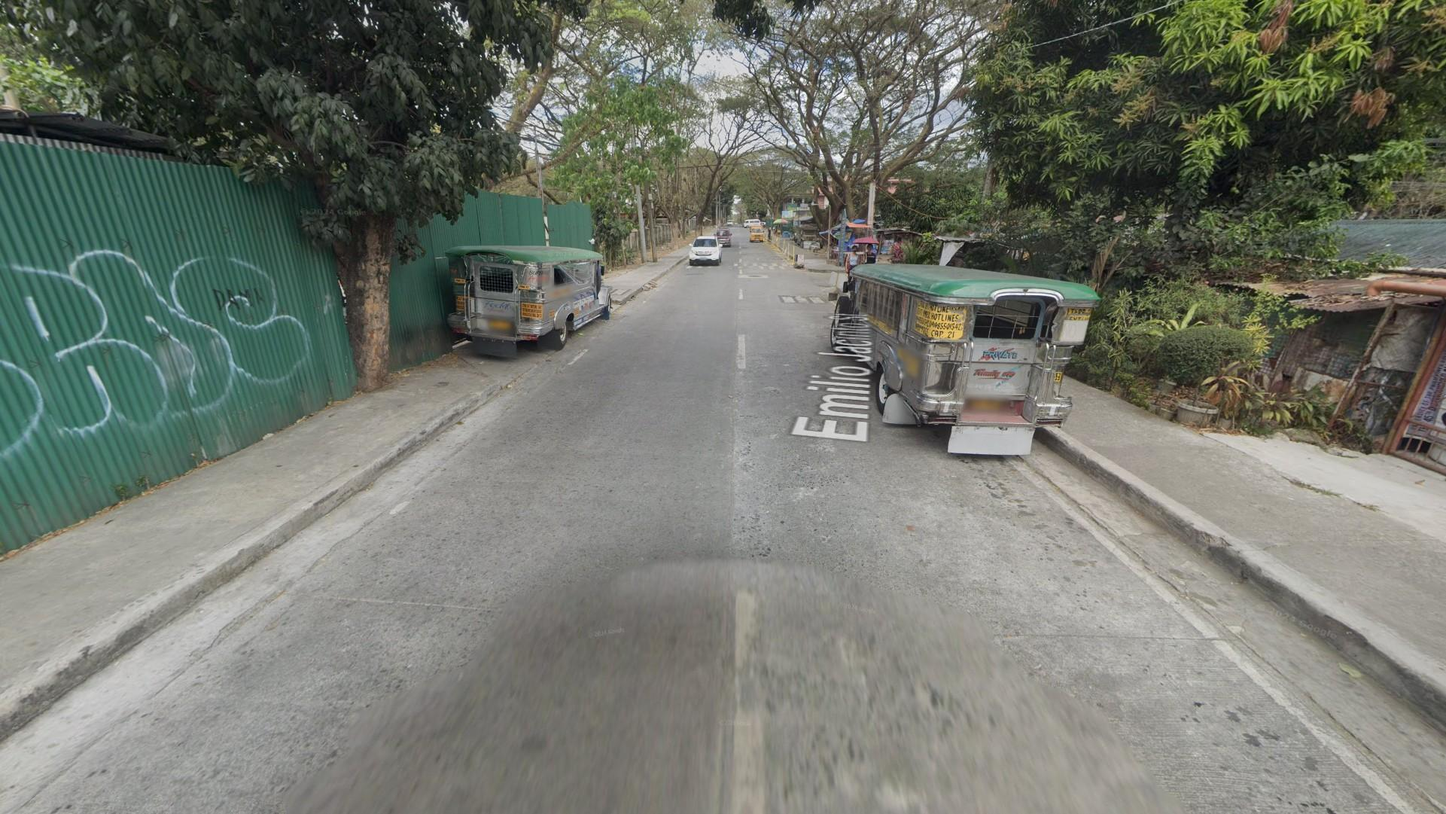pedestrian: (845, 246, 861, 291), (863, 244, 876, 291), (773, 223, 776, 235)
